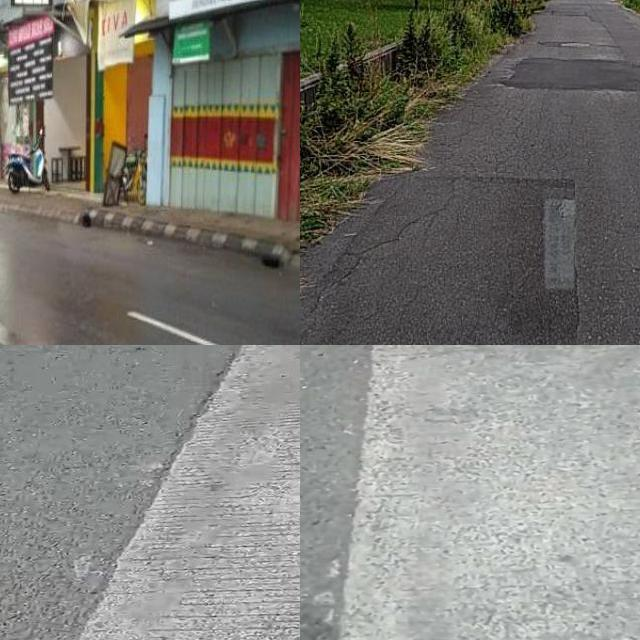Sambungan: (337, 345, 640, 640), (74, 345, 300, 640), (300, 175, 574, 345), (503, 60, 640, 92)
